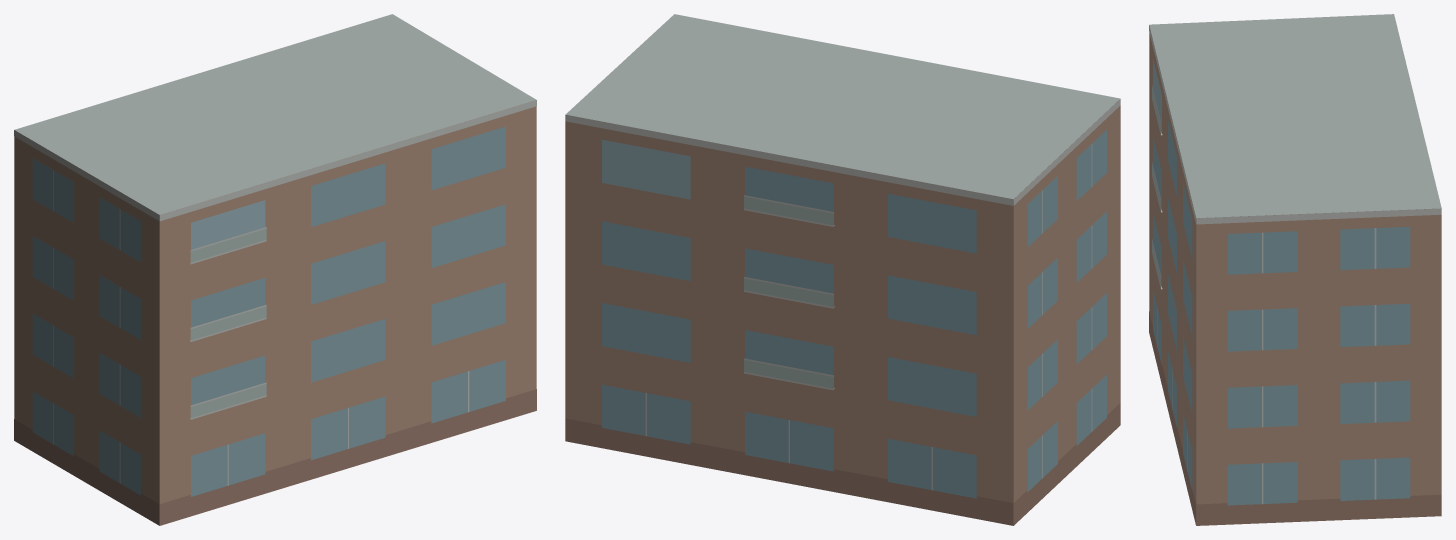
File: survey-upis-32616504.glb
3 renders of one model, left to right at view 1: azimuth 30°, elevation 25°; view 2: azimuth 150°, elevation 25°; view 3: azimuth 270°, elevation 25°, orthographic. The views are drawn at different scales.
Visible parts, largest first — view 1: survey-upis-32616504.tmp; view 2: survey-upis-32616504.tmp; view 3: survey-upis-32616504.tmp.
Part boxes in pixels (x1,y1,x2,y2): survey-upis-32616504.tmp: [14, 14, 536, 525]; survey-upis-32616504.tmp: [565, 14, 1120, 525]; survey-upis-32616504.tmp: [1149, 14, 1441, 525].
Size of the model in its own units: 16.94 by 11.9 by 10.27.
